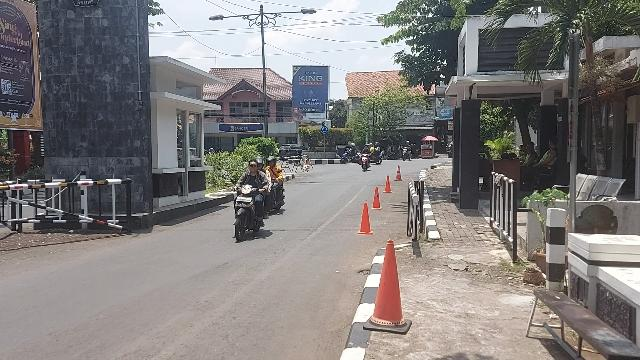helm: (256, 157, 266, 171), (269, 157, 278, 168)
motor: (230, 179, 268, 244), (270, 171, 287, 216)
non-helm: (250, 160, 259, 172)
